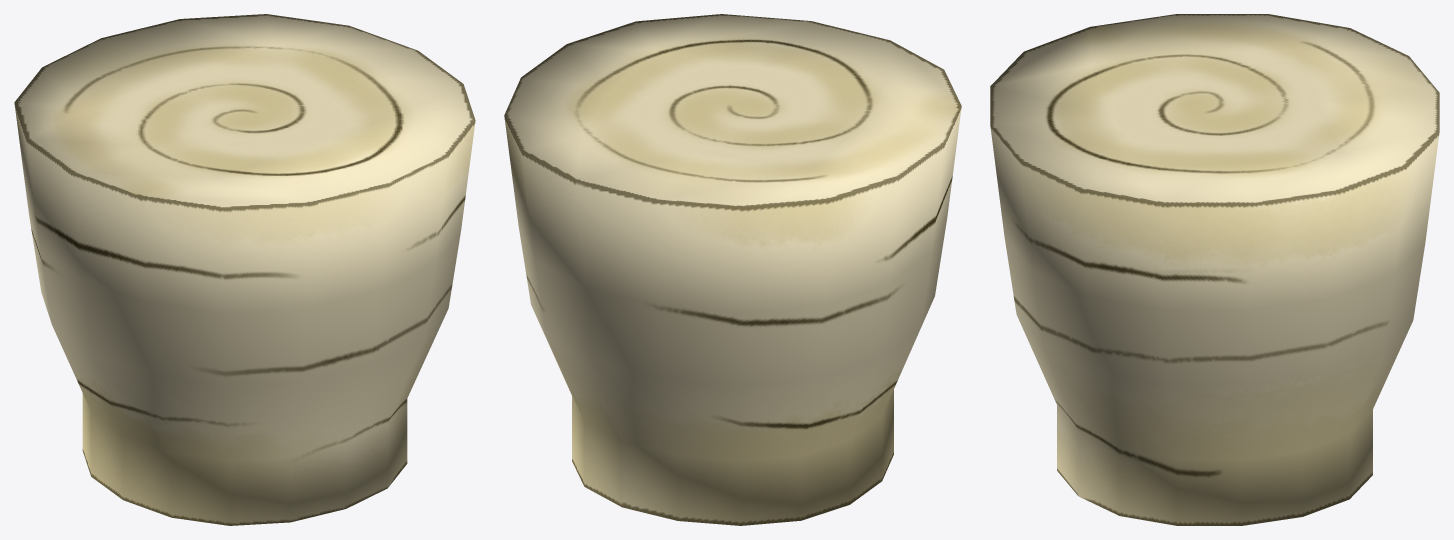
File: Milk.fbx
3 views of the same model, side by side, from view 1: azimuth 30°, elevation 25°; view 2: azimuth 150°, elevation 25°; view 3: azimuth 270°, elevation 25° (orthographic).
Parts seen in each view (by area): view 1: Milk; view 2: Milk; view 3: Milk.
Boxes of the visible parts, x1,y1,x2,y2 form: Milk: [14, 14, 475, 525]; Milk: [504, 14, 961, 525]; Milk: [990, 14, 1439, 525].
Bounding box in the file's own units: 5.61 × 4.83 × 5.61.
